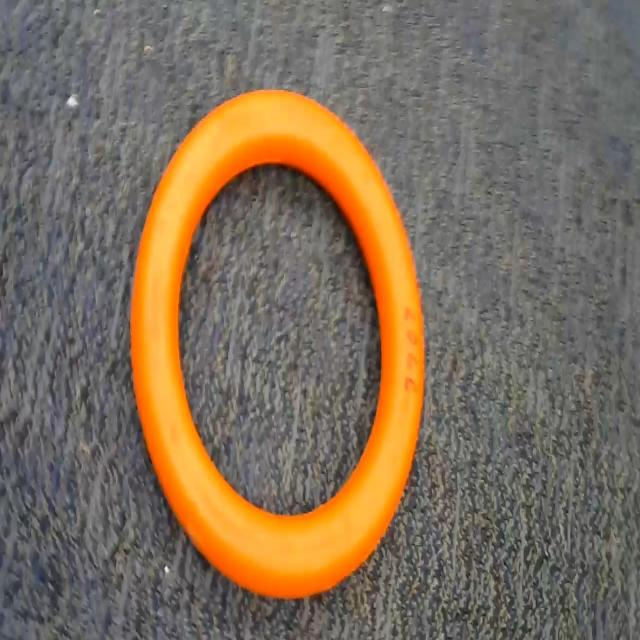note: (122, 82, 440, 611)
